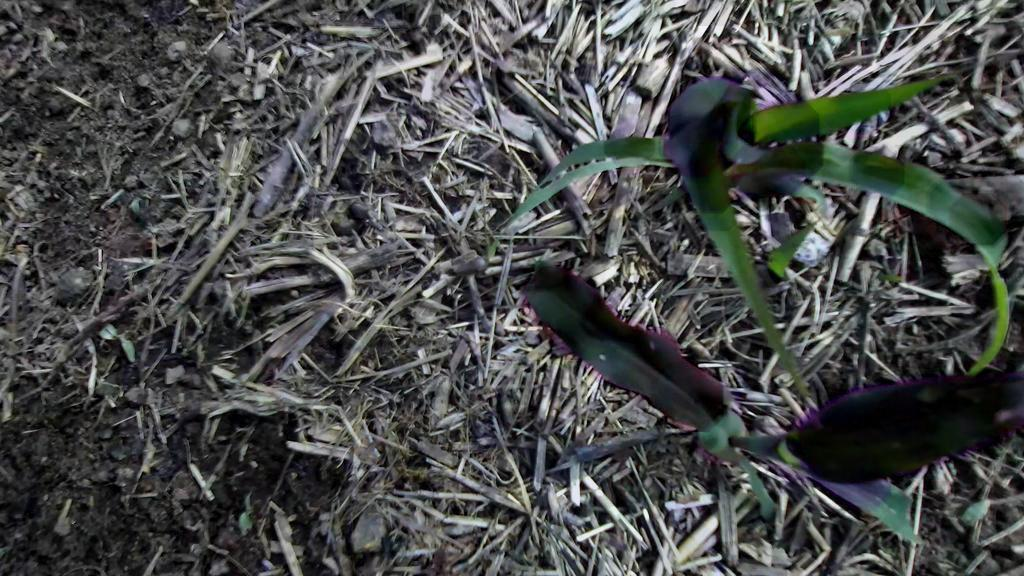BroWeed: (97, 321, 143, 364), (957, 495, 995, 529), (235, 491, 260, 537), (126, 188, 152, 217), (878, 273, 902, 284), (947, 461, 958, 476), (579, 494, 590, 506), (622, 478, 631, 492), (638, 465, 645, 478)
Maize: (485, 74, 1010, 401)
